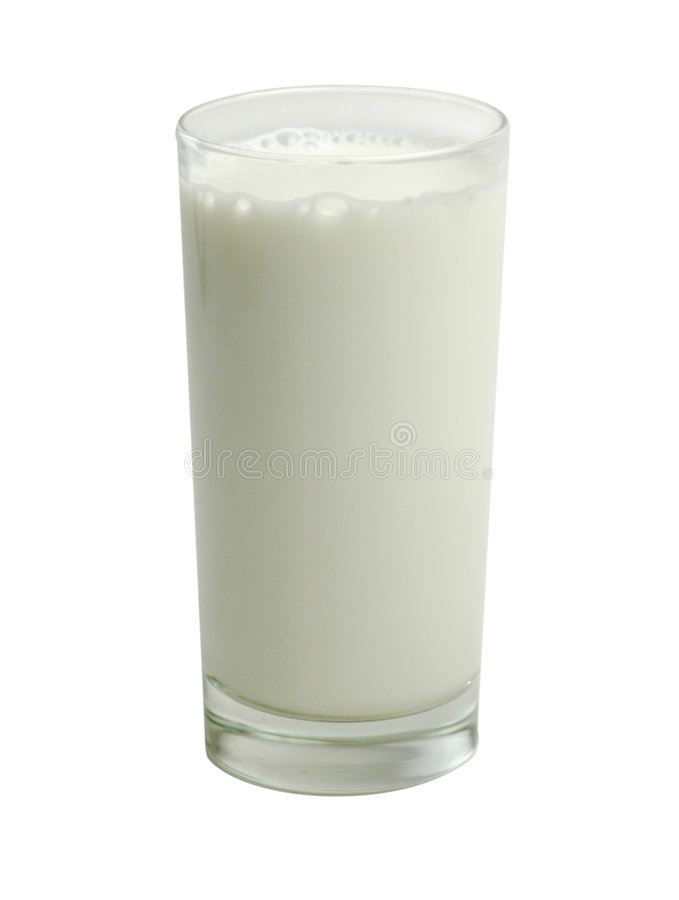glass of milk: (194, 118, 497, 770)
